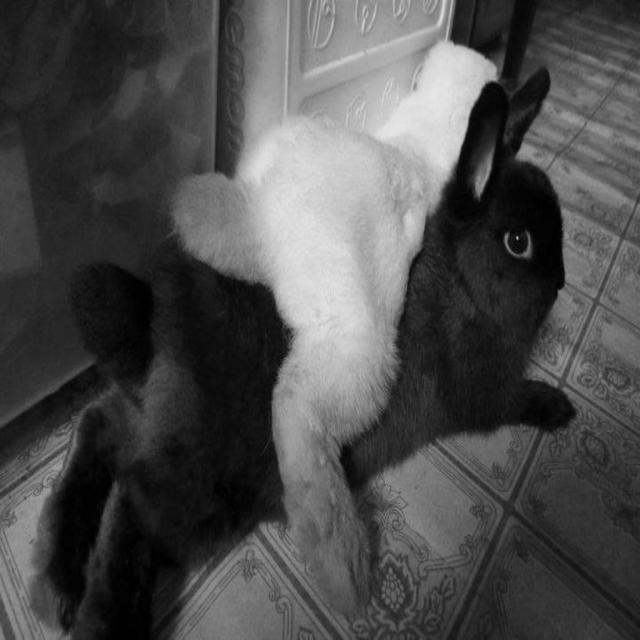Cat: (22, 63, 582, 638), (168, 38, 513, 602)
